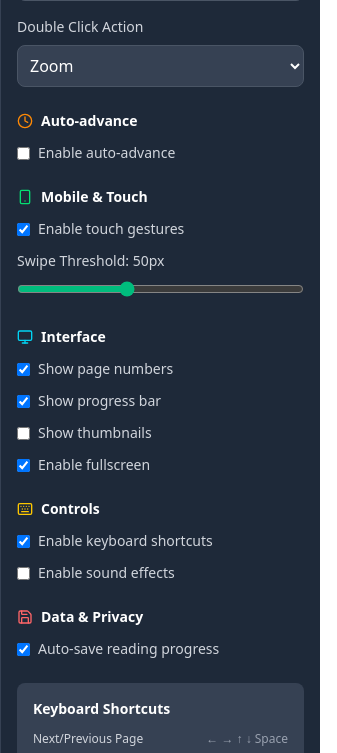
ReaderSettingsPanel › shows unsaved changes indicator
(page scrolled)
# Make a change
Click the checkbox labelled "Show page numbers". click: (24, 369)
box: 17,362 -> 30,376
(page scrolled)
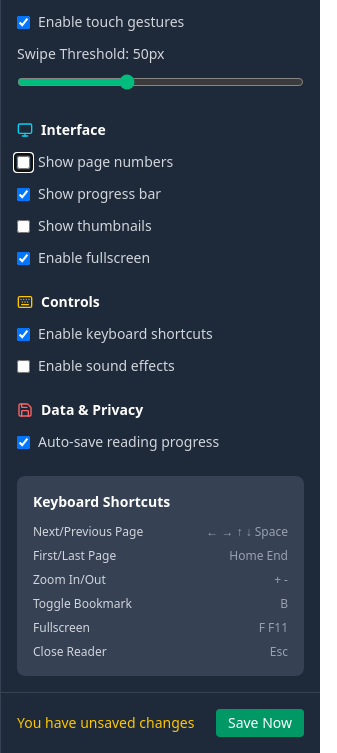
Expected: the text "You have unsaved changes" is shown, 17,713 -> 194,733
Expected: the button "Save Now" is shown, 216,709 -> 304,737
